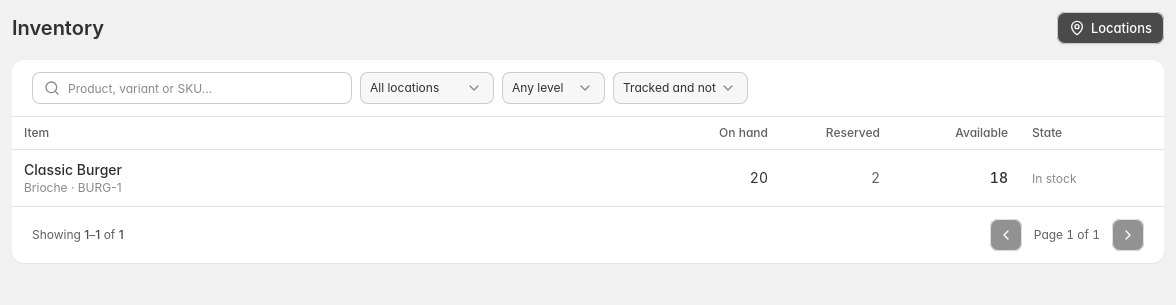
InventoryListPage › explains that a location narrows the quantities, not the rows
The image size is (1176, 305).
Expected: the text "Classic Burger" is shown, [24, 161, 122, 178]
Select "Camden shop" in the dropdown named "Location" at (427, 88), box [360, 72, 494, 104]
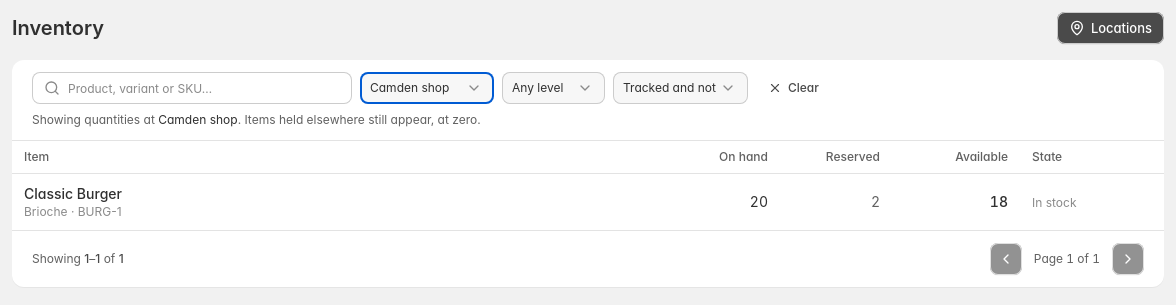
Expected: the text "Items held elsewhere still appear, at zero" is shown, [238, 112, 481, 127]
